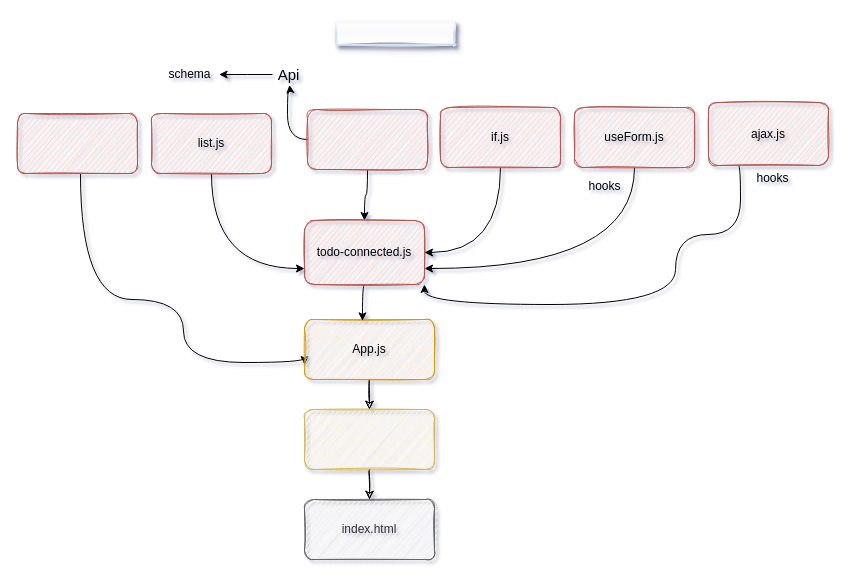
The diagram is 852 pixels wide and 583 high, and some of its shapes have lost their labels. Each missing label, with the centre of its shape:
form.js: point 367,139
header.jsx: point 77,143
index.js: point 369,439
toDo UML: point 396,34
